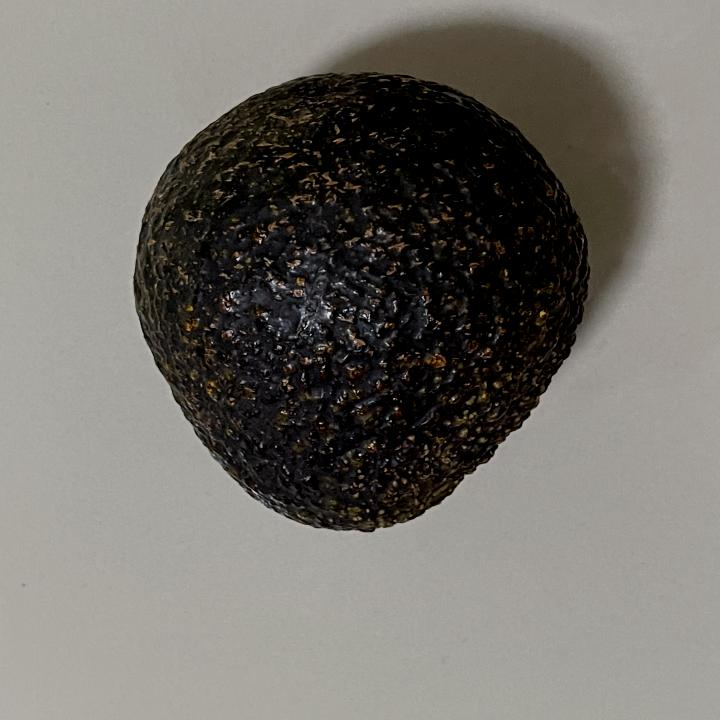Level1: (114, 58, 606, 552)
